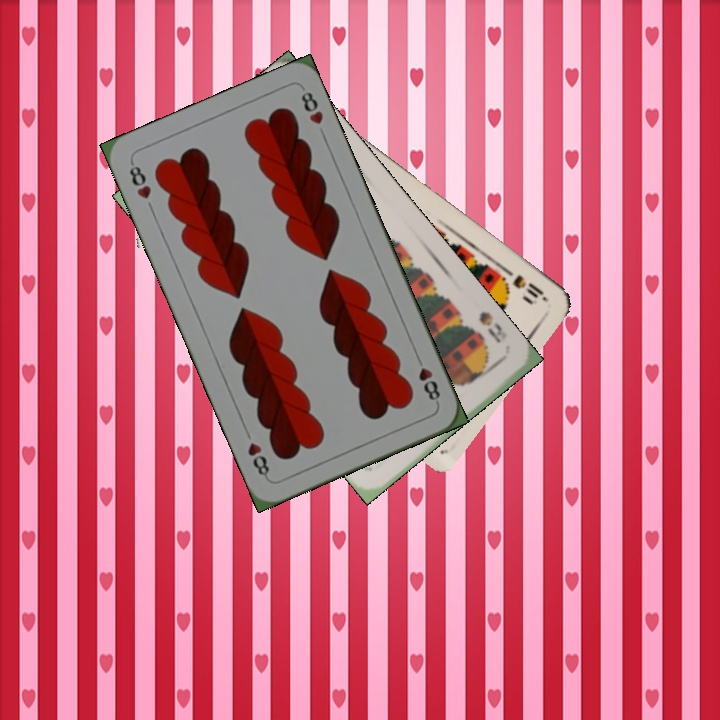H8: (411, 351, 443, 407), (125, 158, 154, 202)
S10: (498, 262, 549, 304)
S8: (474, 307, 510, 346)
